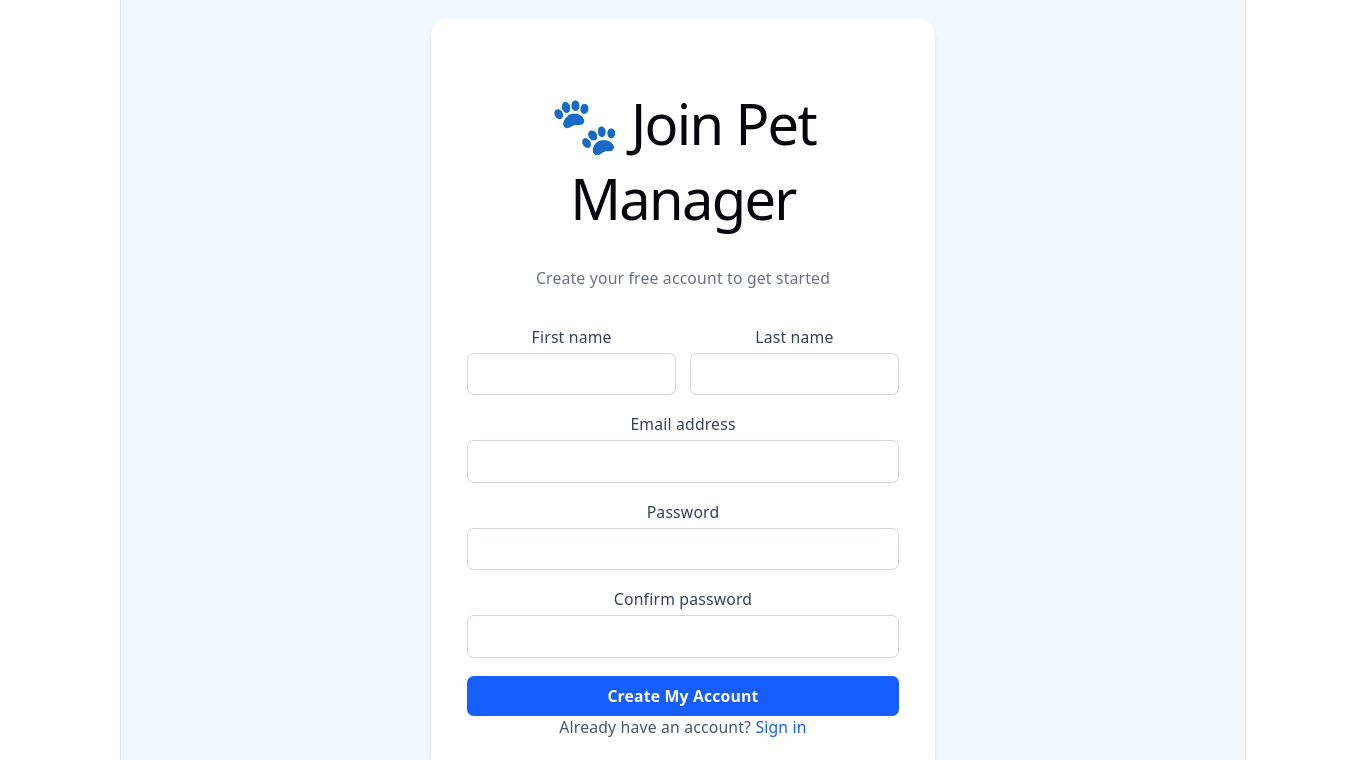
Test: RegisterPage › validates passwords must match
Type "Password1" into the password field labelled "Password" at {"x": 683, "y": 549}, box x1=467 y1=528 x2=899 y2=570
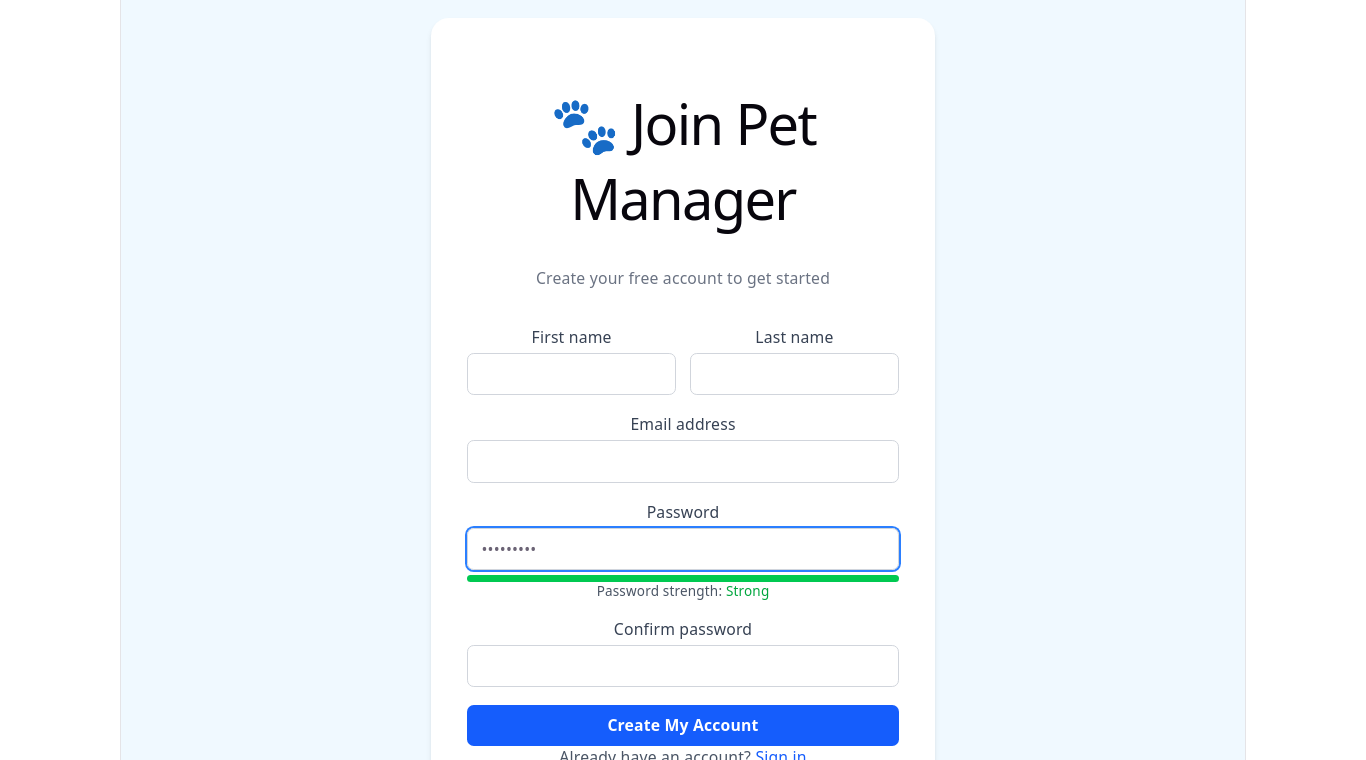
Type "Password2" into the password field labelled "Confirm password" at {"x": 683, "y": 666}, box x1=467 y1=644 x2=899 y2=687
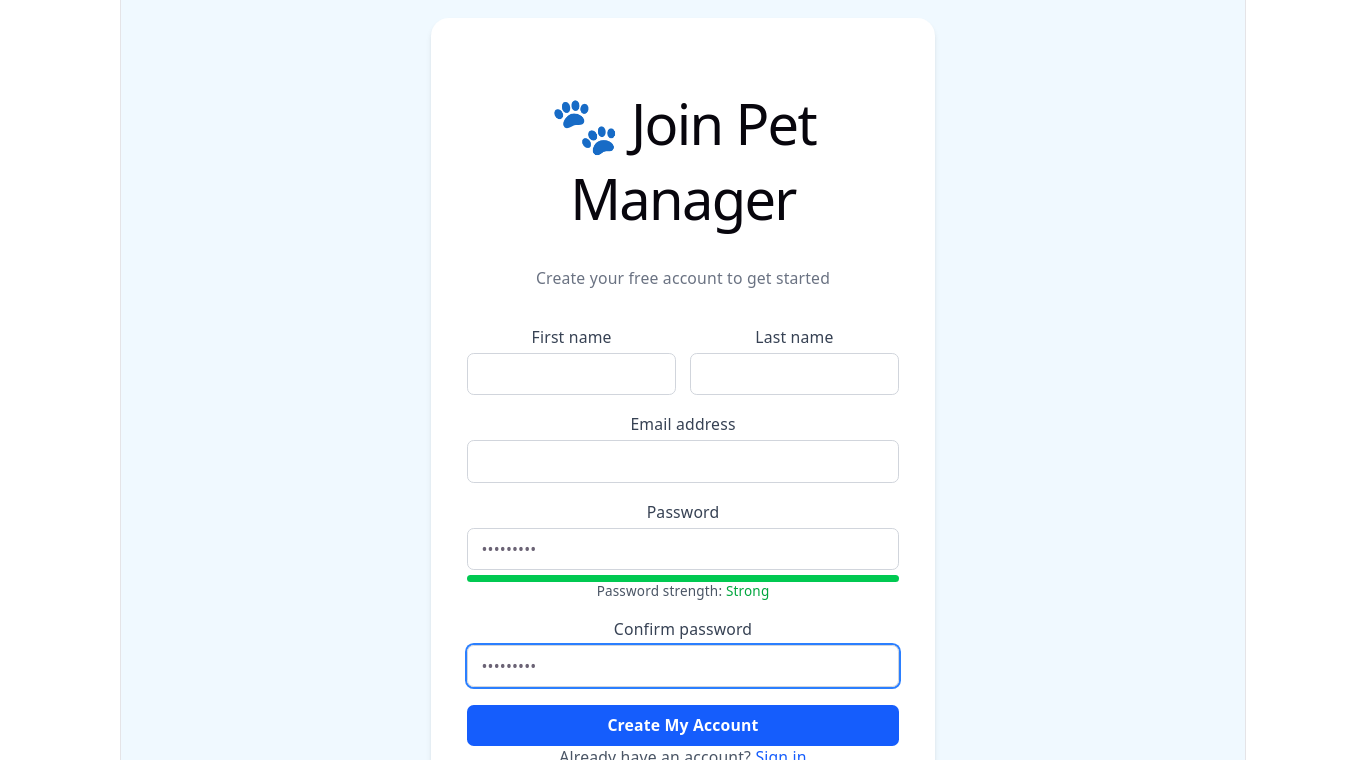
Click the button "Create My Account" at {"x": 683, "y": 725}, box x1=467 y1=705 x2=899 y2=746
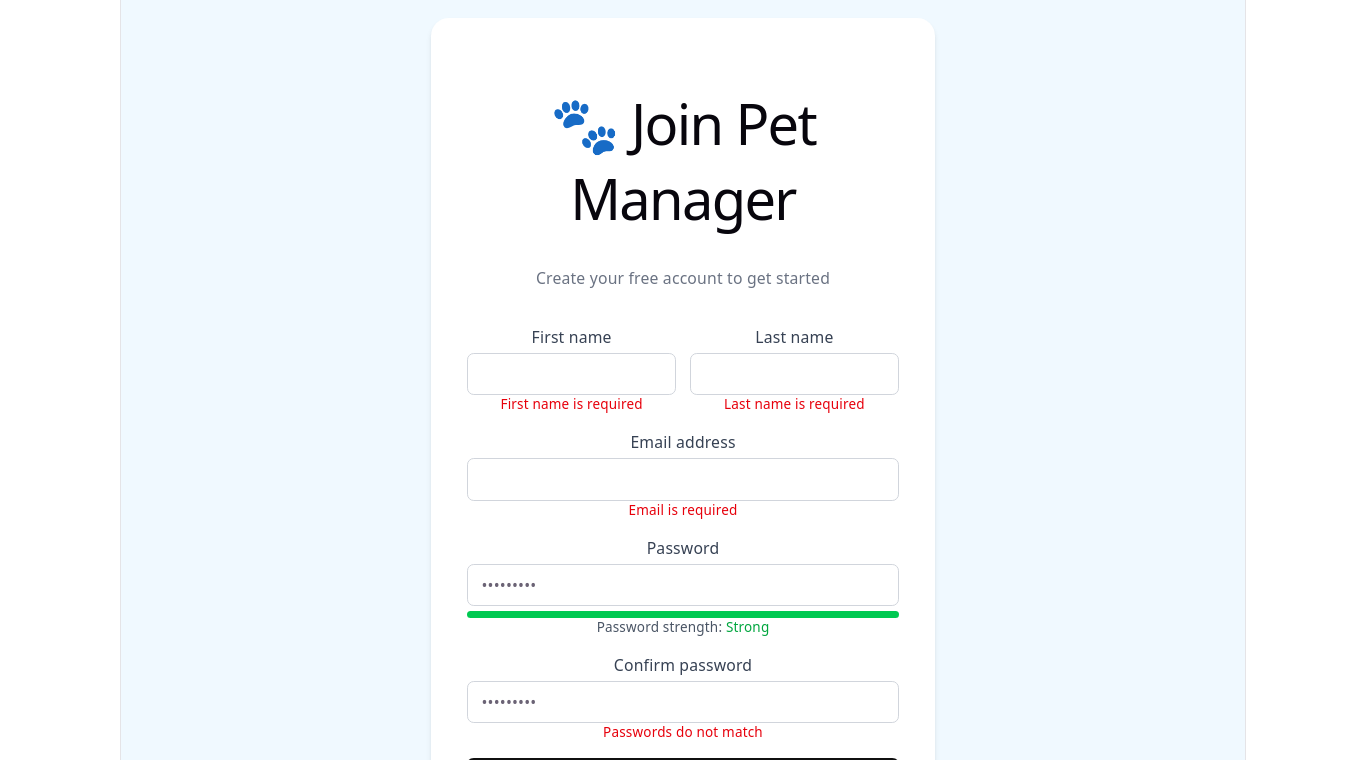
Check: the text "Passwords do not match" is shown, box x1=603 y1=723 x2=763 y2=741
